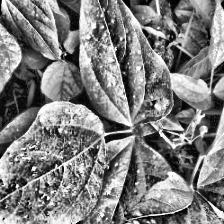Bean Rust: (0, 108, 111, 224), (72, 0, 174, 126), (85, 137, 182, 224), (115, 171, 224, 224), (1, 0, 63, 57), (202, 98, 224, 222), (0, 16, 31, 102)
